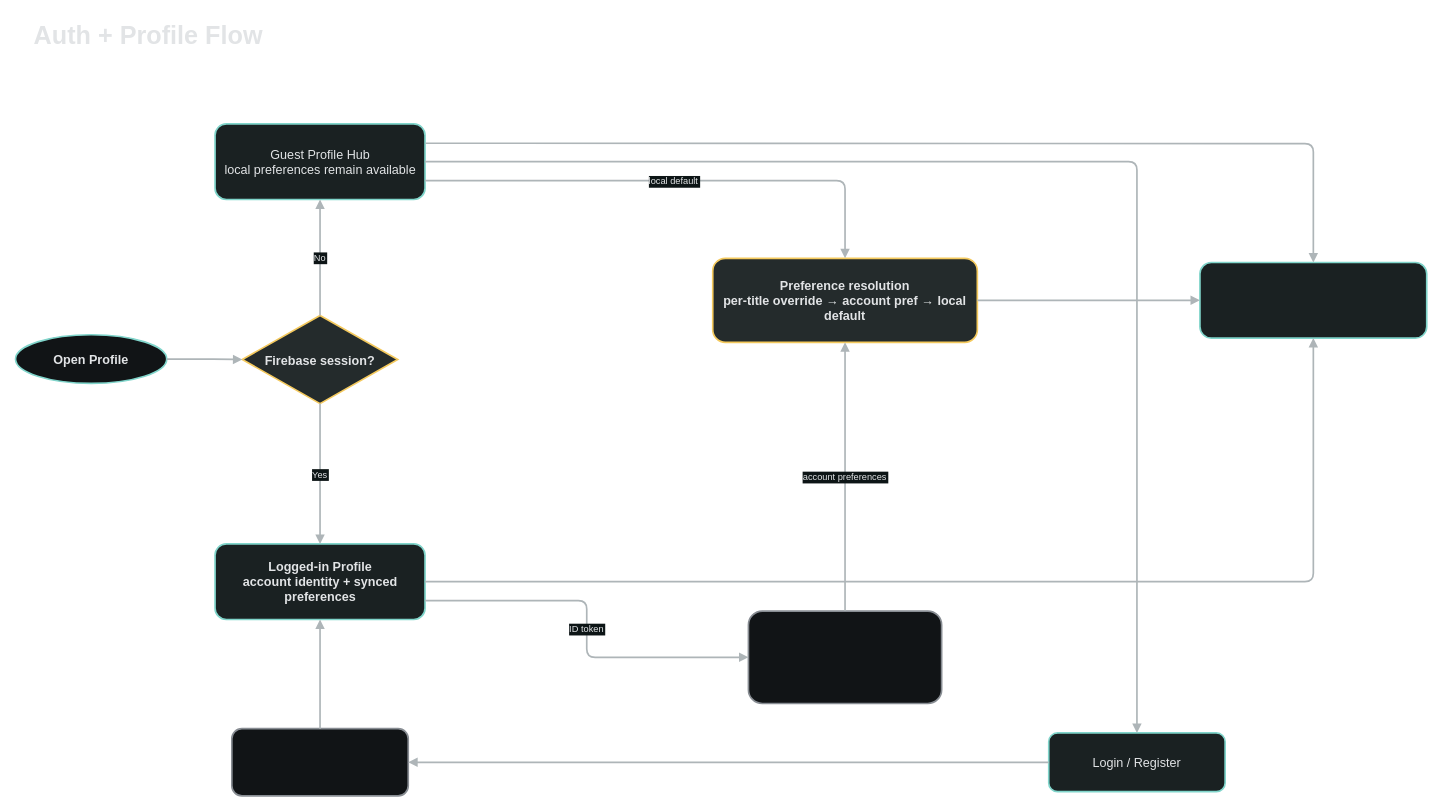
Image size: 1441x811. Some labels were removed from this diagram. The centre of each missing label's shape, as x and y in pixels:
Backend user endpoints /users/me /users/me/preferences: (844,657)
Firebase Auth session + ID token: (320,761)
Settings + About available for guest and logged-in users: (1313,300)
